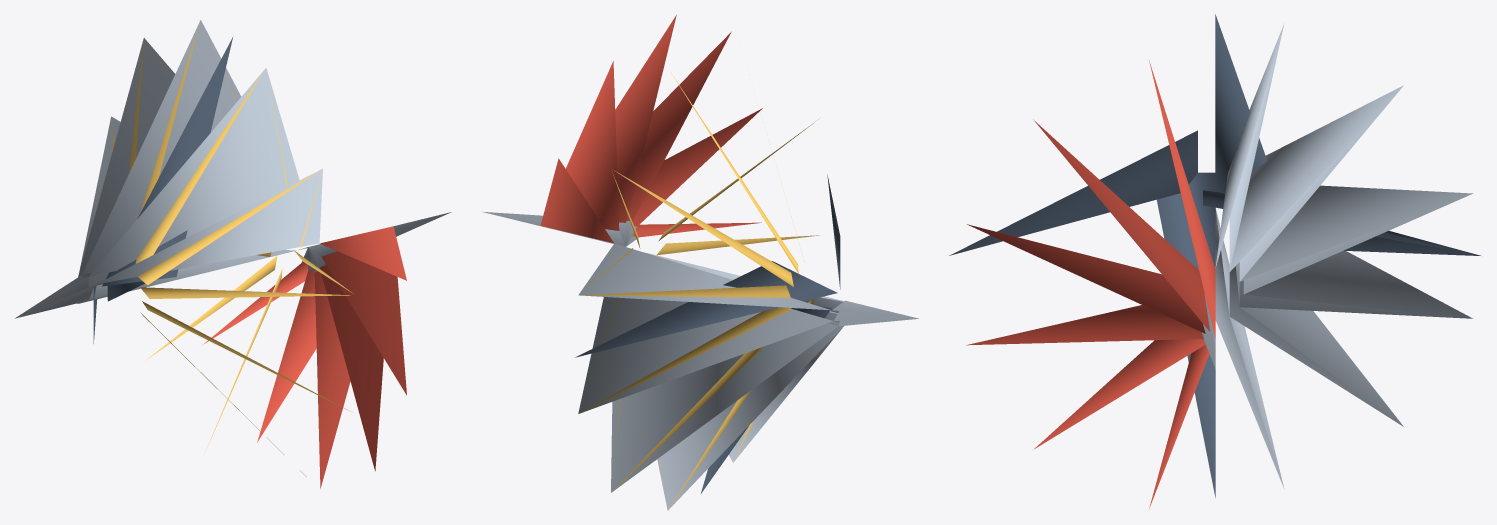
Rendered from air_interceptor_missile.glb.
3 renders of one model, left to right at view 1: azimuth 30°, elevation 25°; view 2: azimuth 150°, elevation 25°; view 3: azimuth 270°, elevation 25°, orthographic. The views are drawn at different scales.
Visible parts, largest first — view 1: body, nose, bands, fins; view 2: body, nose, bands, fins; view 3: body, nose, fins.
Part boxes in pixels (left/top/right/bottom): body: left=15, top=20, right=451, bottom=318; nose: left=203, top=226, right=406, bottom=488; bands: left=111, top=22, right=353, bottom=476; fins: left=93, top=36, right=233, bottom=343; body: left=481, top=211, right=918, bottom=510; nose: left=540, top=14, right=762, bottom=243; bands: left=582, top=73, right=819, bottom=506; fins: left=575, top=174, right=840, bottom=493; body: left=1202, top=23, right=1473, bottom=488; nose: left=966, top=60, right=1215, bottom=508; fins: left=949, top=14, right=1480, bottom=497.
Size of the model in its own units: 2 by 2 by 2.
